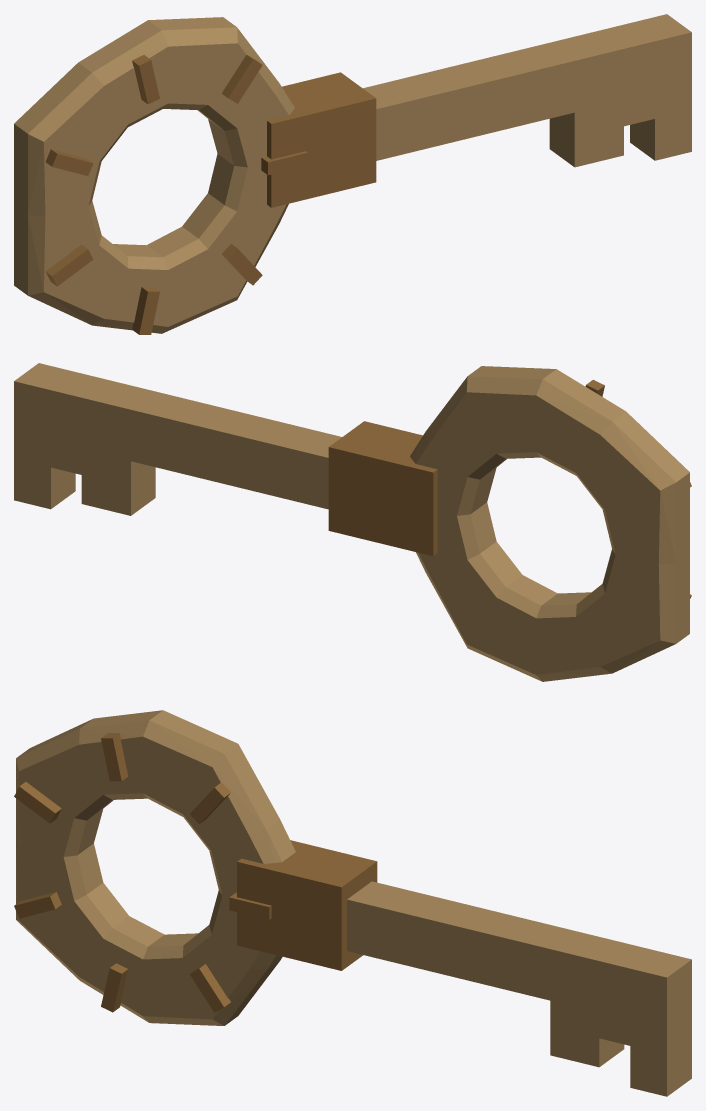
File: VAULT_KEY.shadow.glb
3 renders of one model, top to bottom at view 1: azimuth 30°, elevation 25°; view 2: azimuth 150°, elevation 25°; view 3: azimuth 330°, elevation 25°, orthographic.
Visible parts, largest first — view 1: Body_Mesh; view 2: Body_Mesh; view 3: Body_Mesh.
Boxes of the visible parts, left/top/right/bottom form: Body_Mesh: left=14, top=14, right=691, bottom=334; Body_Mesh: left=14, top=363, right=691, bottom=681; Body_Mesh: left=14, top=710, right=691, bottom=1096.
Size of the model in its own units: 1.07 by 0.47 by 0.106.
